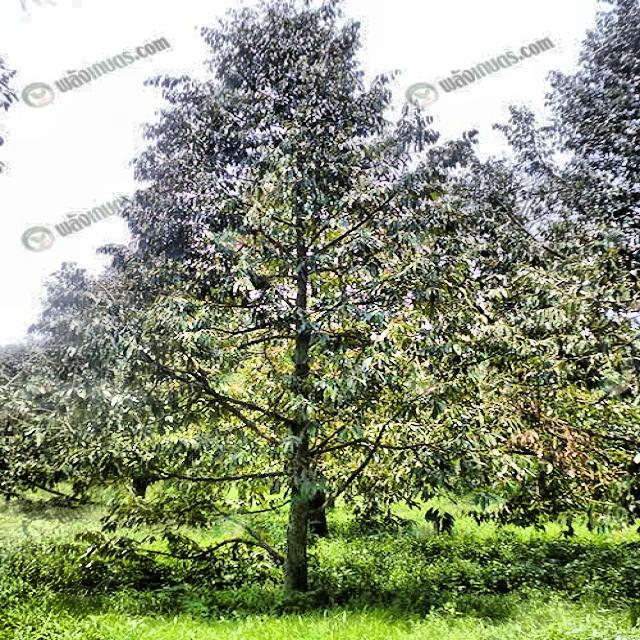arvore: (251, 141, 344, 625)
